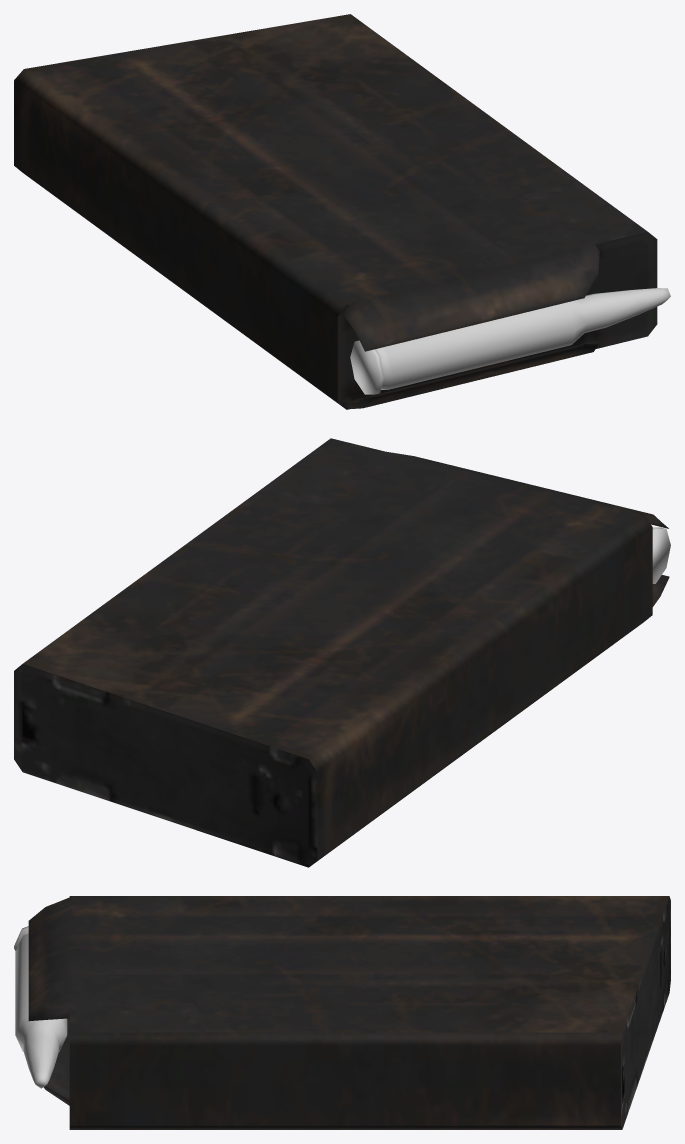
File: t6_attach_mag_saritch_view_LOD0.obj
3 views of the same model, one above another, from view 1: azimuth 30°, elevation 25°; view 2: azimuth 150°, elevation 25°; view 3: azimuth 270°, elevation 25° (orthographic). The views are drawn at different scales.
Parts seen in each view (by area): view 1: mtl_t6_wpn_ar_saritch_camo1, mtl_t6_attach_bullet; view 2: mtl_t6_wpn_ar_saritch_camo1, mtl_t6_attach_bullet; view 3: mtl_t6_wpn_ar_saritch_camo1, mtl_t6_attach_bullet.
Part boxes in pixels (x1,y1,x2,y2): mtl_t6_wpn_ar_saritch_camo1: (14, 14, 657, 409); mtl_t6_attach_bullet: (350, 288, 670, 394); mtl_t6_wpn_ar_saritch_camo1: (14, 438, 669, 867); mtl_t6_attach_bullet: (652, 527, 670, 583); mtl_t6_wpn_ar_saritch_camo1: (28, 896, 670, 1129); mtl_t6_attach_bullet: (14, 926, 67, 1088).
Bounding box in the file's own units: 8.55 × 2.67 × 16.37.
